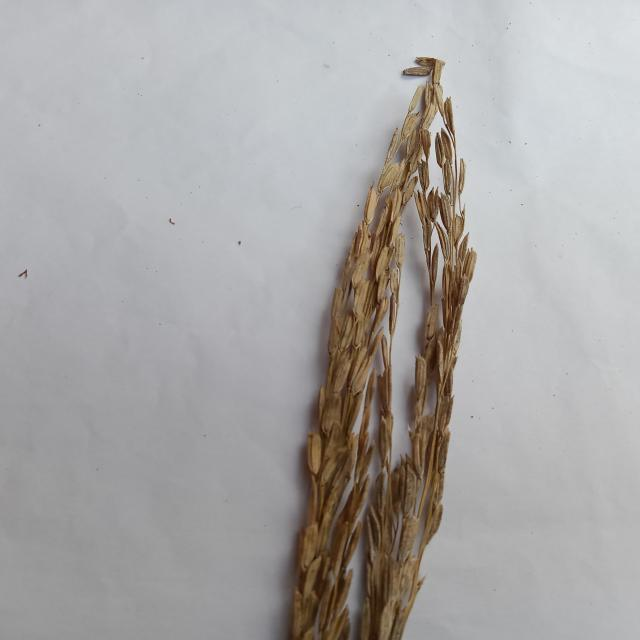Neck_Blast: (273, 54, 426, 639), (352, 38, 479, 640)
